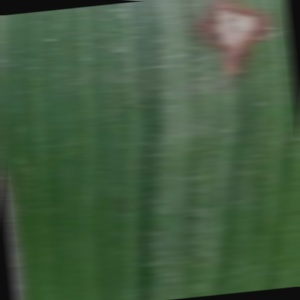Brown_Spot: (189, 0, 278, 75)
